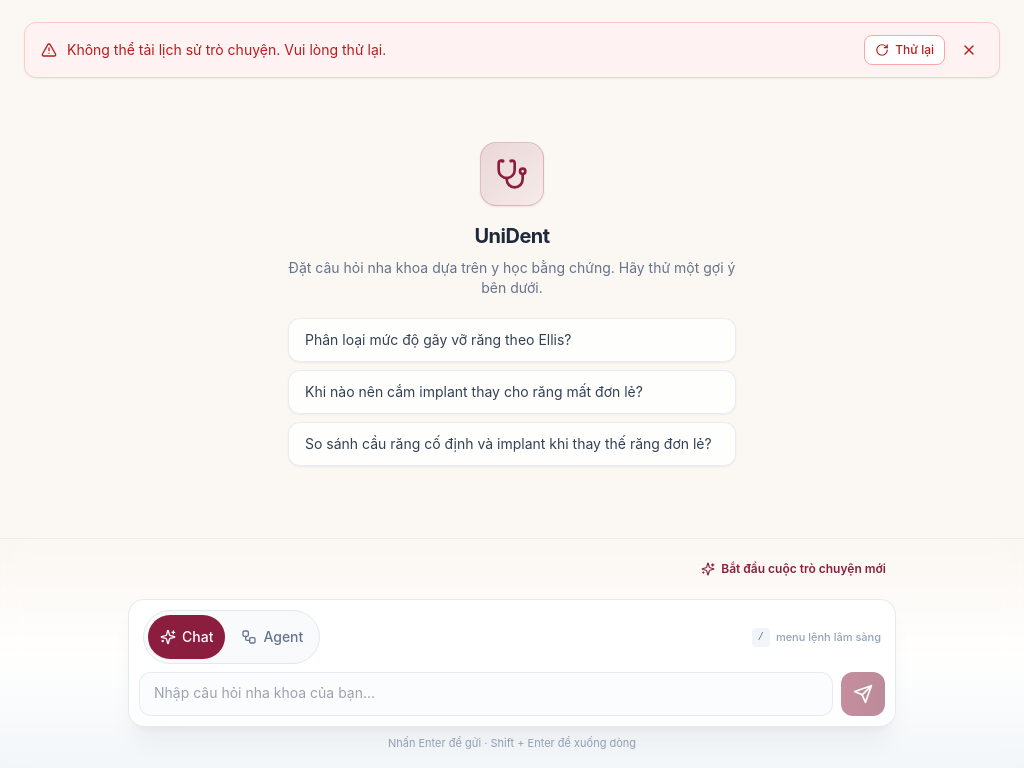
ChatInterface history failure › shows a dismissible error banner and still allows sending messages
(page scrolled)
Expected: the message shows "Không thể tải lịch sử trò chuyện. Vui lòng thử lại.", [67, 41, 386, 58]
// Non-blocking: the user can still send a new message while the banner shows.
Type "Câu hỏi mới" into the text box named "Ô nhập câu hỏi".
click(486, 694); type("Câu hỏi mới")  # box [139, 672, 833, 716]
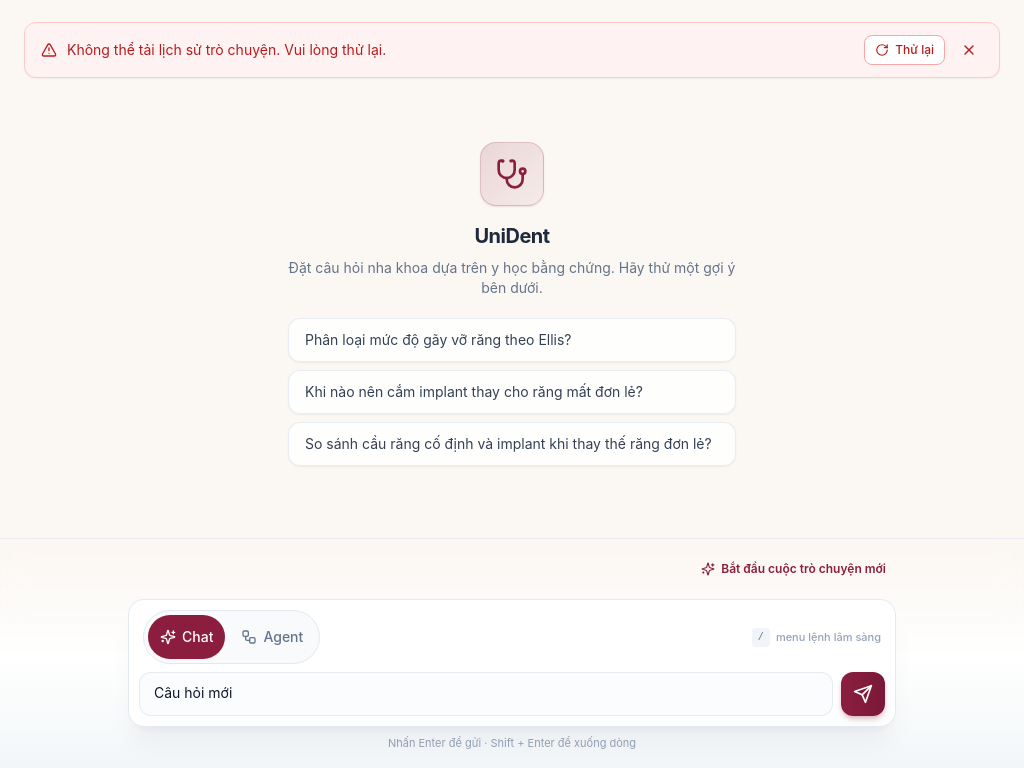
Click the button named "Gửi câu hỏi".
click(863, 694)  # box [841, 672, 885, 716]
(page scrolled)
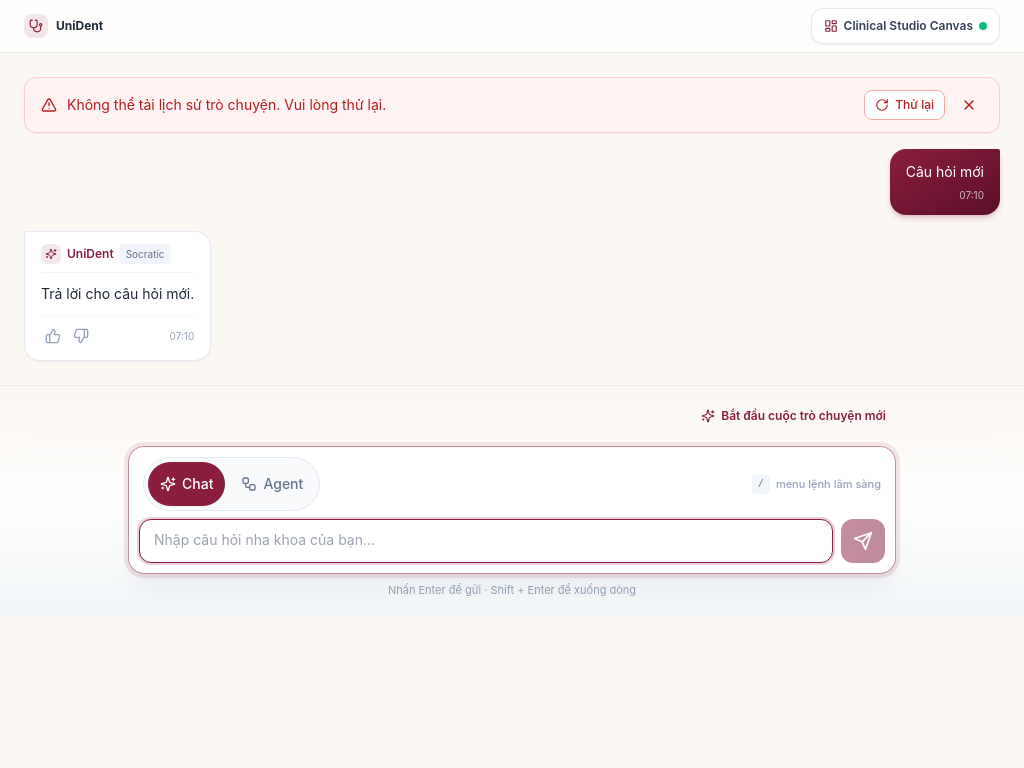
Expected: the text "Trả lời cho câu hỏi mới." is shown, [41, 283, 194, 305]
Click the button named "Đóng thông báo lỗi".
click(969, 105)  # box [955, 91, 983, 119]
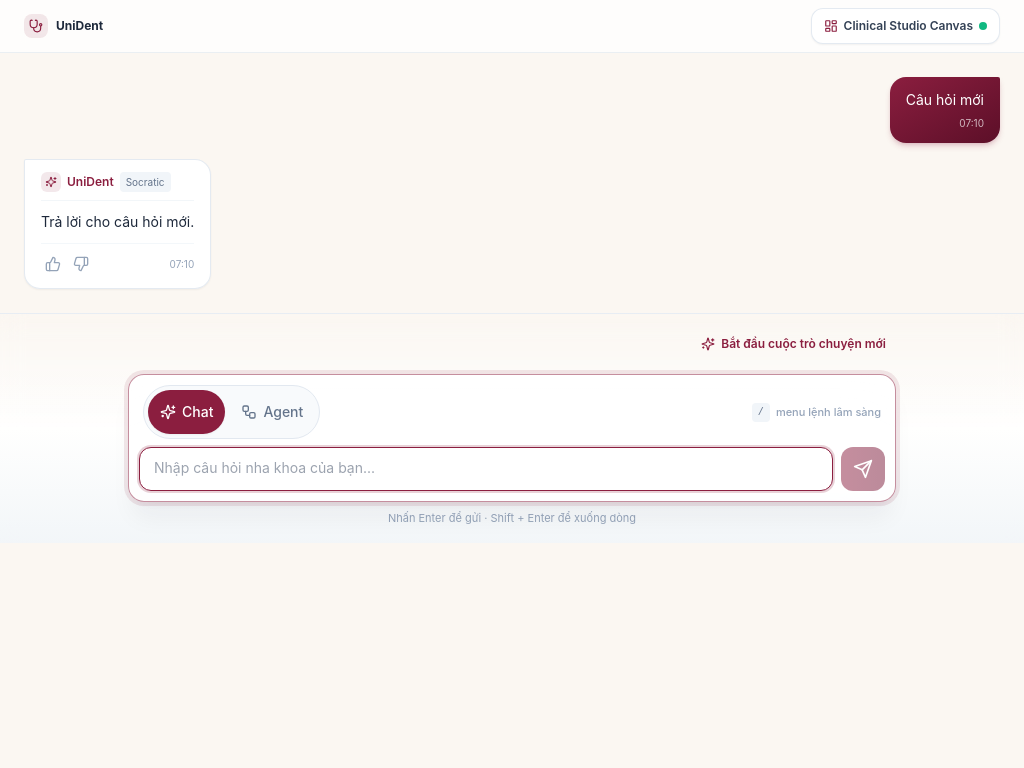
Expected: the message "Không thể tải lịch sử trò chuyện. Vui lòng thử lại. Thử lại" is gone
